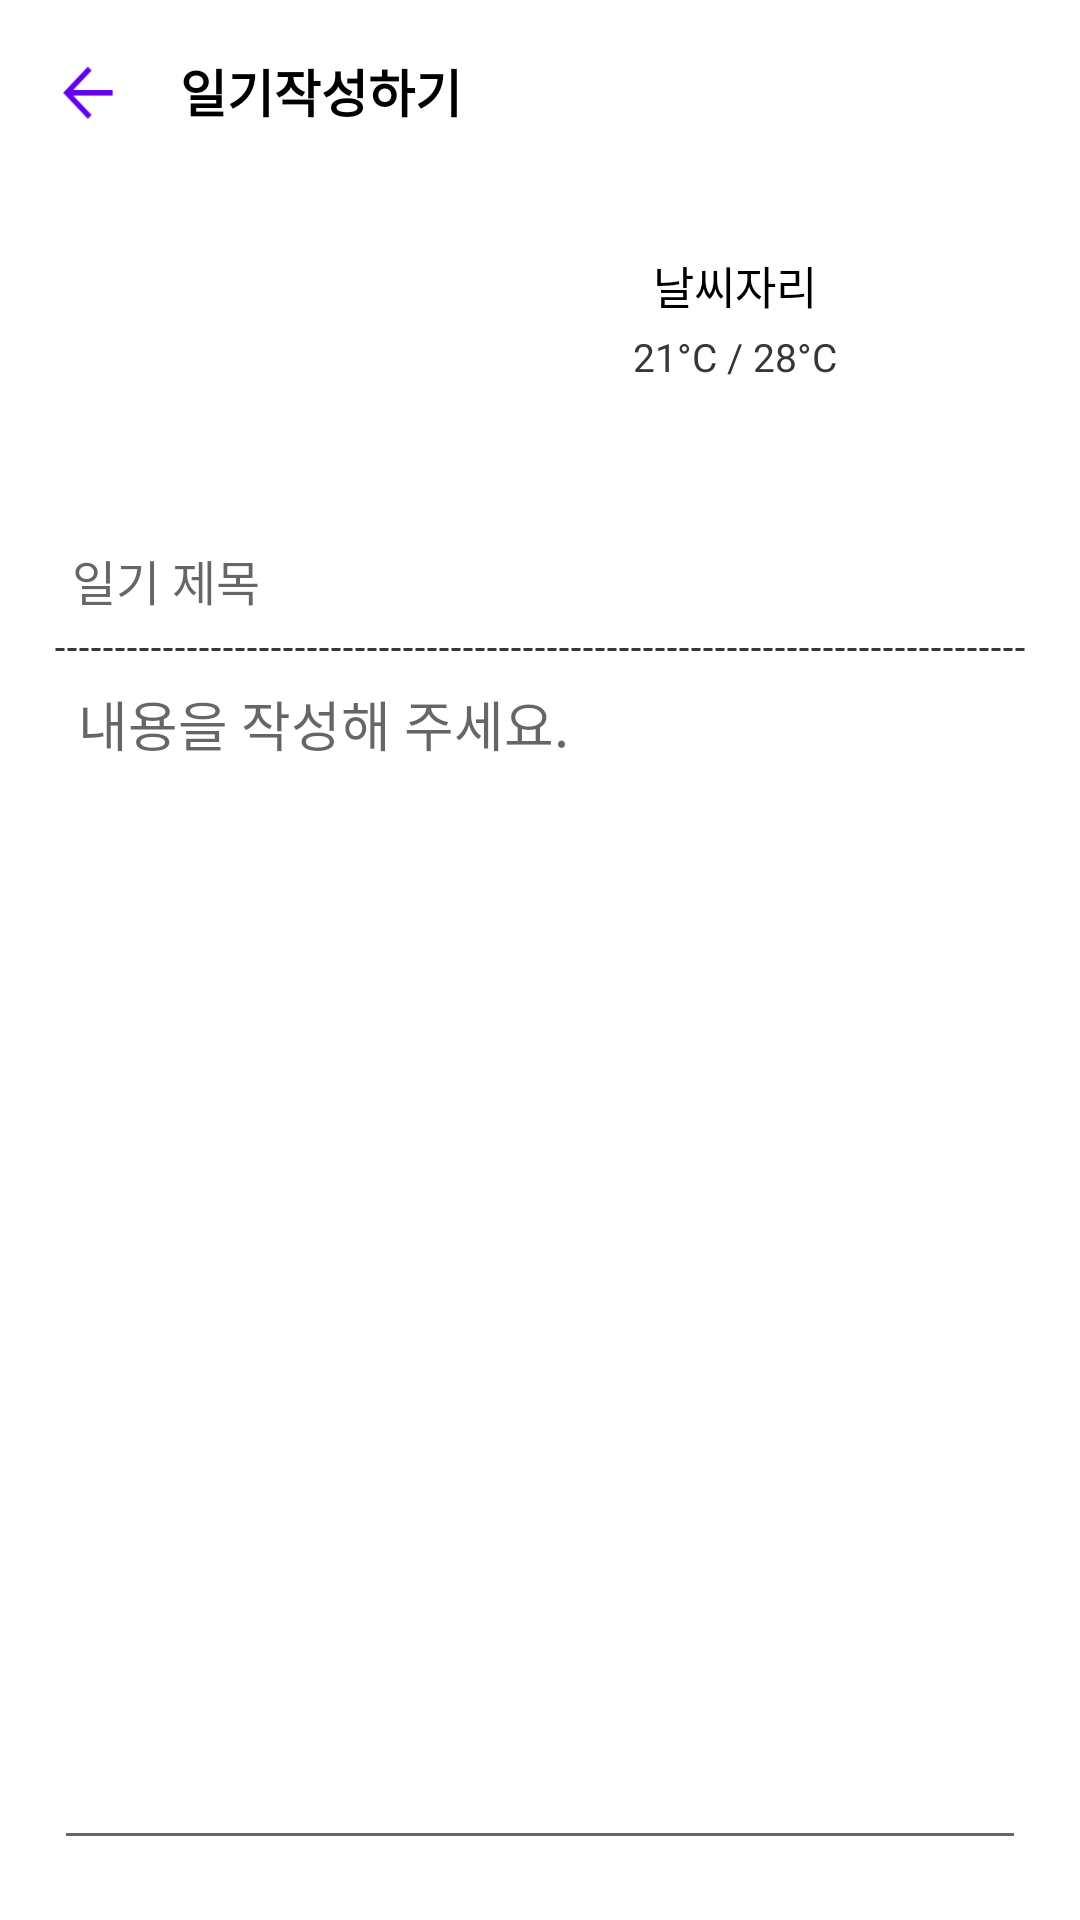

Icon bounding boxes for this 1080px x 1920px phone screenshot, format (x1, y1, x2, y2):
back nor: (63, 66, 113, 119)
